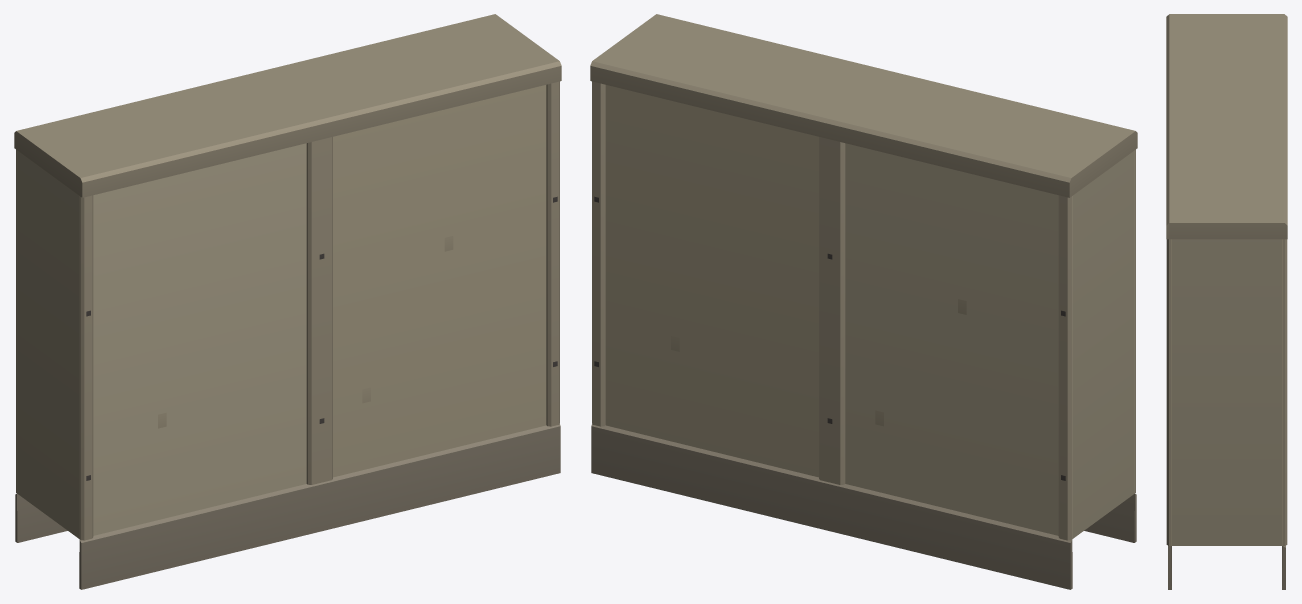
Rendered from plywood_low.glb.
3 views of the same model, side by side, from view 1: azimuth 30°, elevation 25°; view 2: azimuth 150°, elevation 25°; view 3: azimuth 270°, elevation 25° (orthographic). The views are drawn at different scales.
Parts seen in each view (by area): view 1: plywood_low; view 2: plywood_low; view 3: plywood_low.
Part boxes in pixels (<box>): plywood_low: <box>14,14,561,589</box>; plywood_low: <box>590,14,1137,589</box>; plywood_low: <box>1166,14,1287,589</box>.
Bounding box in the file's own units: 1.22 × 1 × 0.3.
